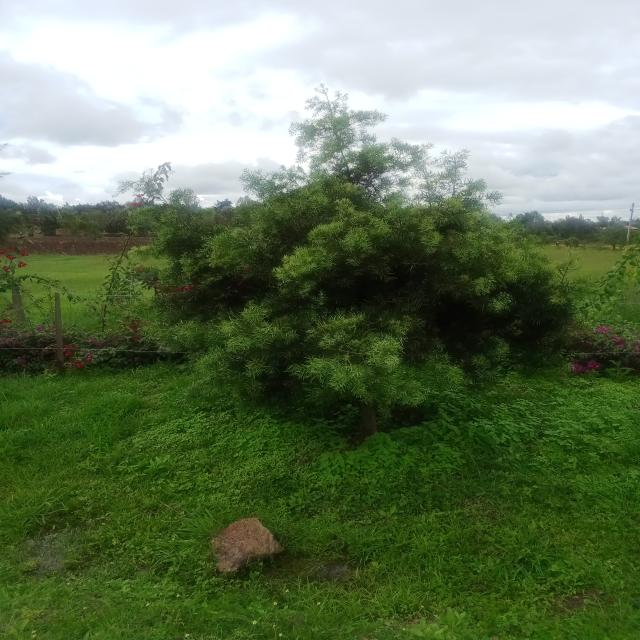Podocarpus falcatus: (143, 78, 568, 438)
